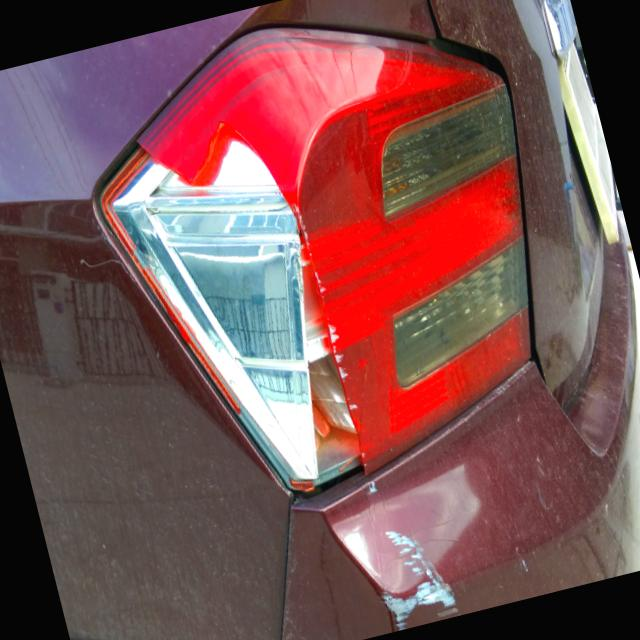Phare abime: (66, 94, 386, 527)
Rayure: (362, 504, 466, 632)
